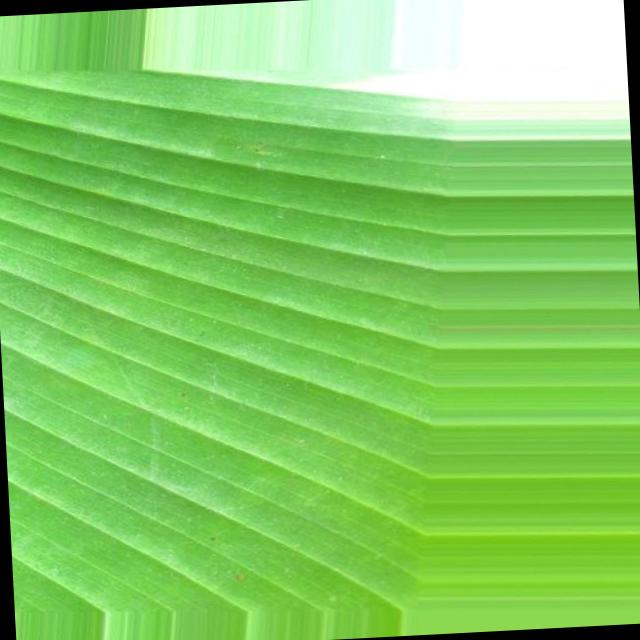Banana_Healthy: (70, 100, 386, 474)
